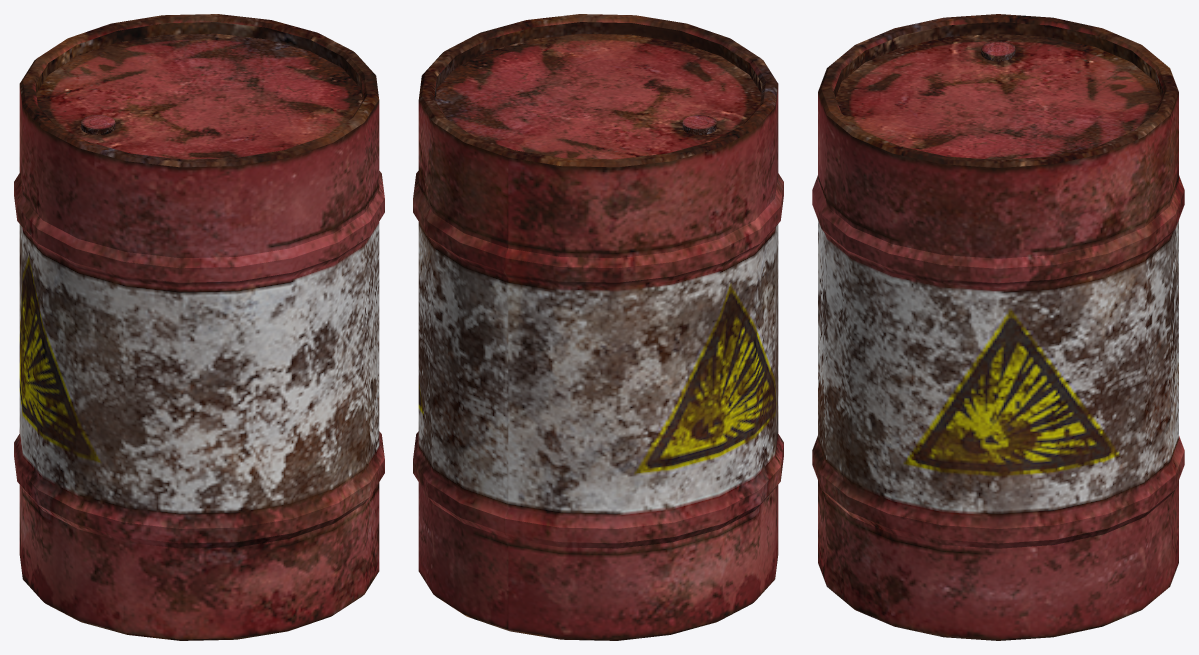
The model's file is RedBarrel.fbx.
3 views of the same model, side by side, from view 1: azimuth 30°, elevation 25°; view 2: azimuth 150°, elevation 25°; view 3: azimuth 270°, elevation 25° (orthographic).
Parts seen in each view (by area): view 1: pCylinder1; view 2: pCylinder1; view 3: pCylinder1.
Part boxes in pixels (box(x1,y1,x2,y2)): pCylinder1: box(14, 14, 384, 640); pCylinder1: box(413, 14, 783, 640); pCylinder1: box(812, 14, 1184, 640).
Bounding box in the file's own units: 59.46 × 84.1 × 59.46.
Materials: 1 (1 with a texture image).
